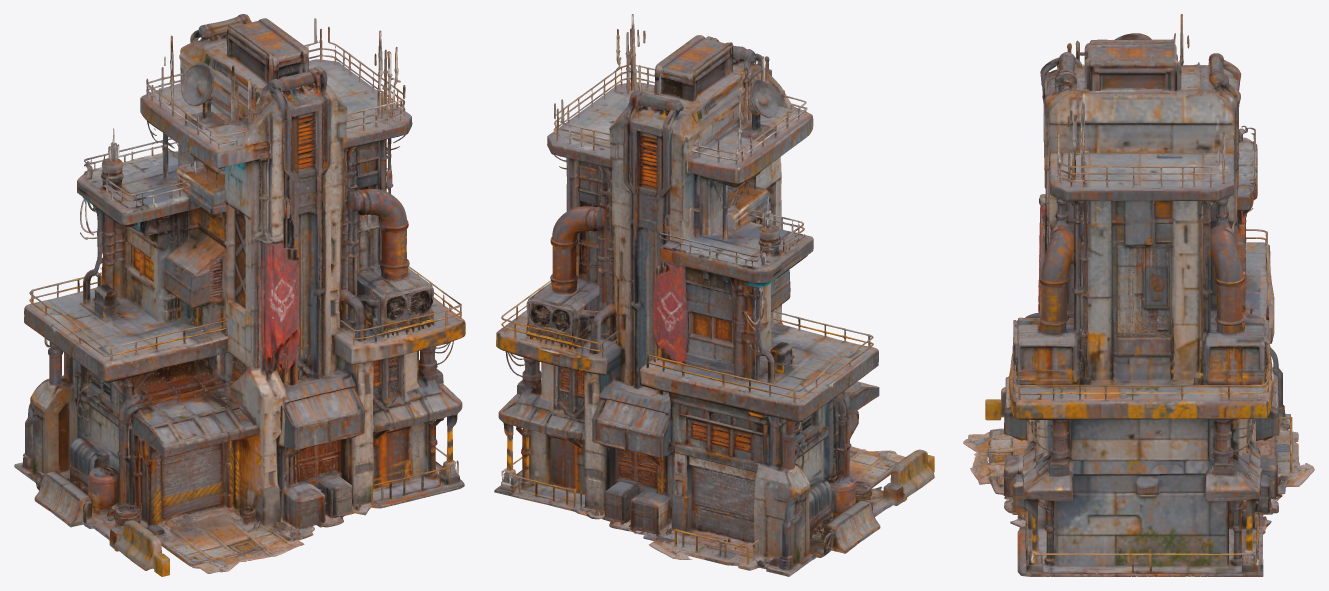
Rendered from industrial_tower.glb.
3 views of the same model, side by side, from view 1: azimuth 30°, elevation 25°; view 2: azimuth 150°, elevation 25°; view 3: azimuth 270°, elevation 25° (orthographic). The views are drawn at different scales.
Visible parts, largest first — view 1: world; view 2: world; view 3: world.
Part boxes in pixels (x1,y1,x2,y2): world: [14, 14, 465, 576]; world: [494, 14, 934, 576]; world: [963, 14, 1314, 576].
Size of the model in its own units: 1.58 by 1.99 by 1.39.
1 material, 1 textured.
